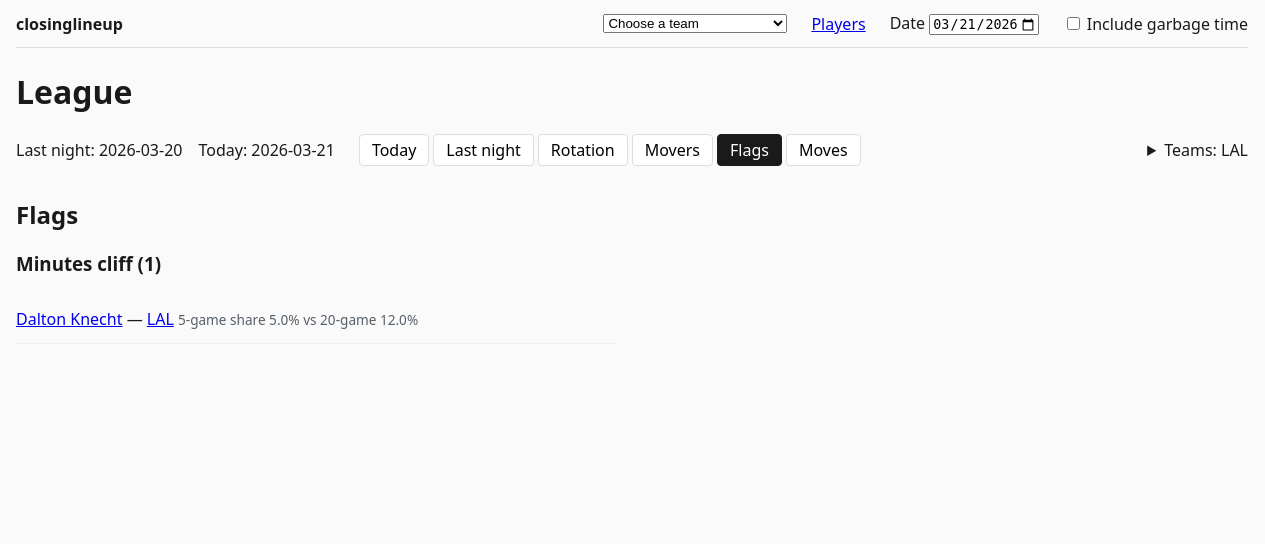
LeaguePage › team filter › shows only the selected teams' rows on every derived tab
Expected: the number of list items is 1, left=16, top=295, right=616, bottom=344
Expected: the element "Flags" shows "Dalton Knecht — LAL", left=16, top=178, right=616, bottom=344
Click the tab "Rotation".
click(583, 150)  # box left=538, top=134, right=628, bottom=166
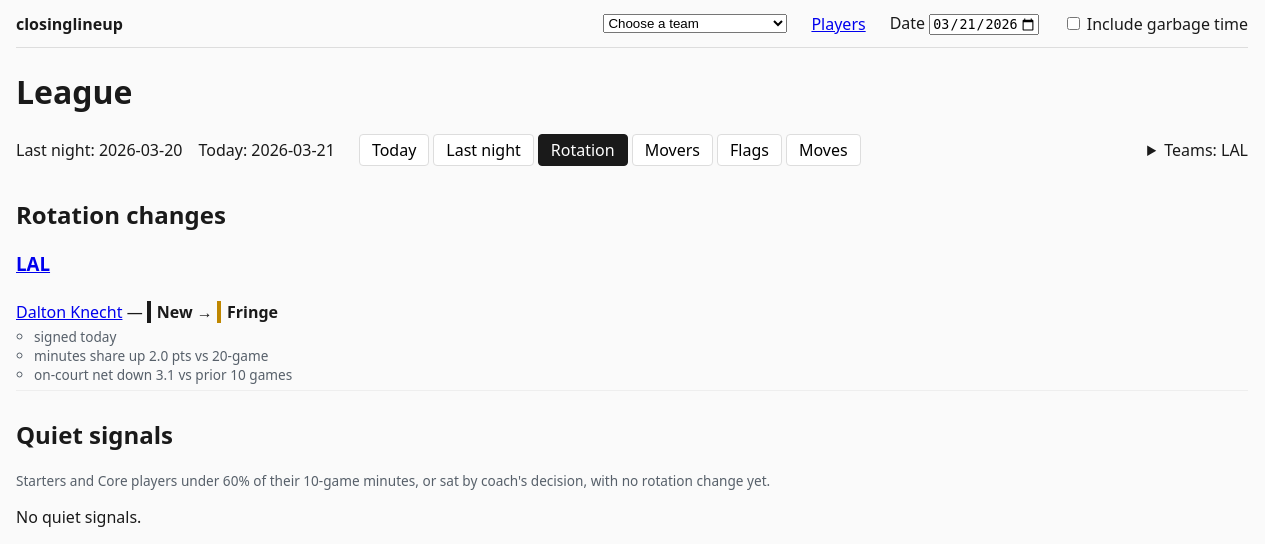
Expected: the element "BOS" is not shown
Now the element "LAL" is shown, box left=16, top=251, right=1248, bottom=391
Click the tab "Movers".
click(672, 150)  # box left=632, top=134, right=713, bottom=166
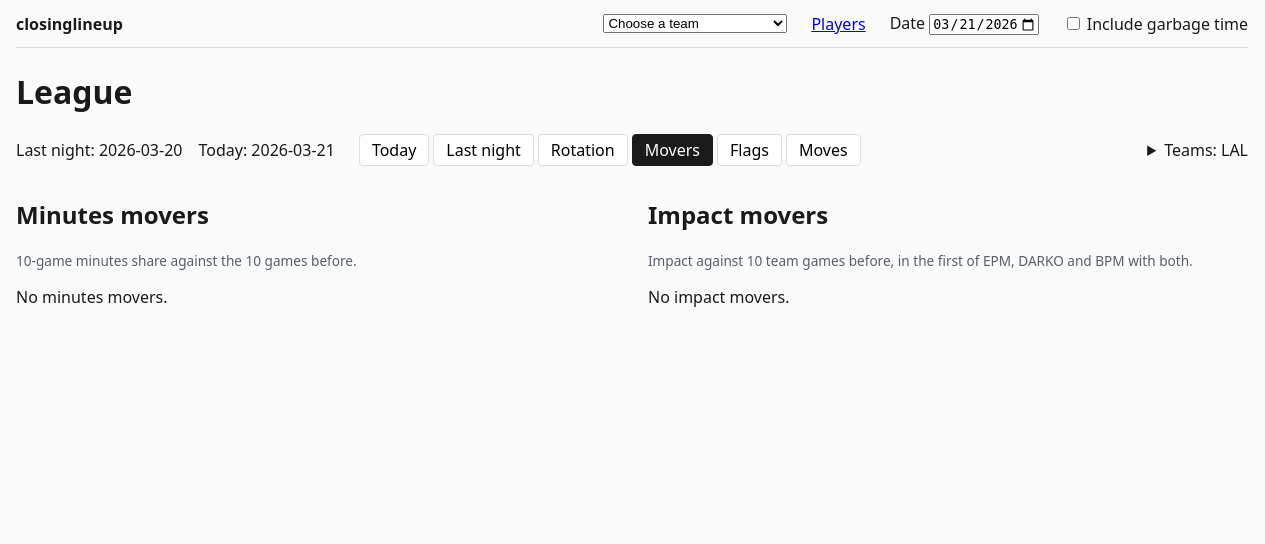
Now the element "Minutes movers" shows "No minutes movers.", box left=16, top=286, right=168, bottom=308
Click the tab "Moves".
click(823, 150)  # box left=786, top=134, right=861, bottom=166
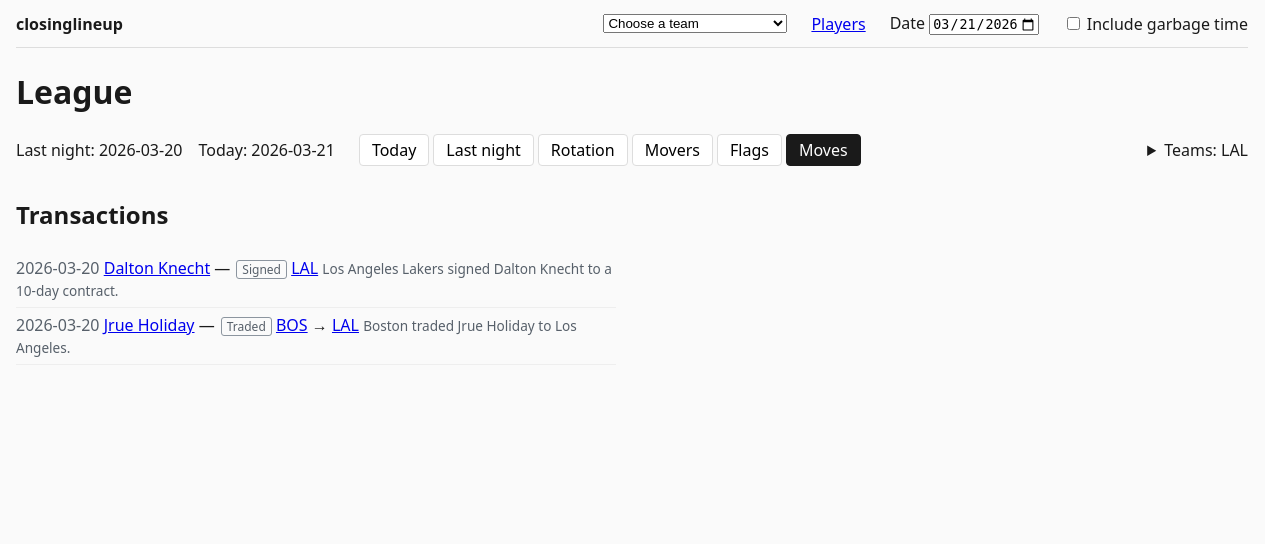
Now the number of list items is 2, box left=16, top=251, right=616, bottom=308; left=16, top=308, right=616, bottom=365
Click the tab "Last night".
click(484, 150)  # box left=433, top=134, right=534, bottom=166
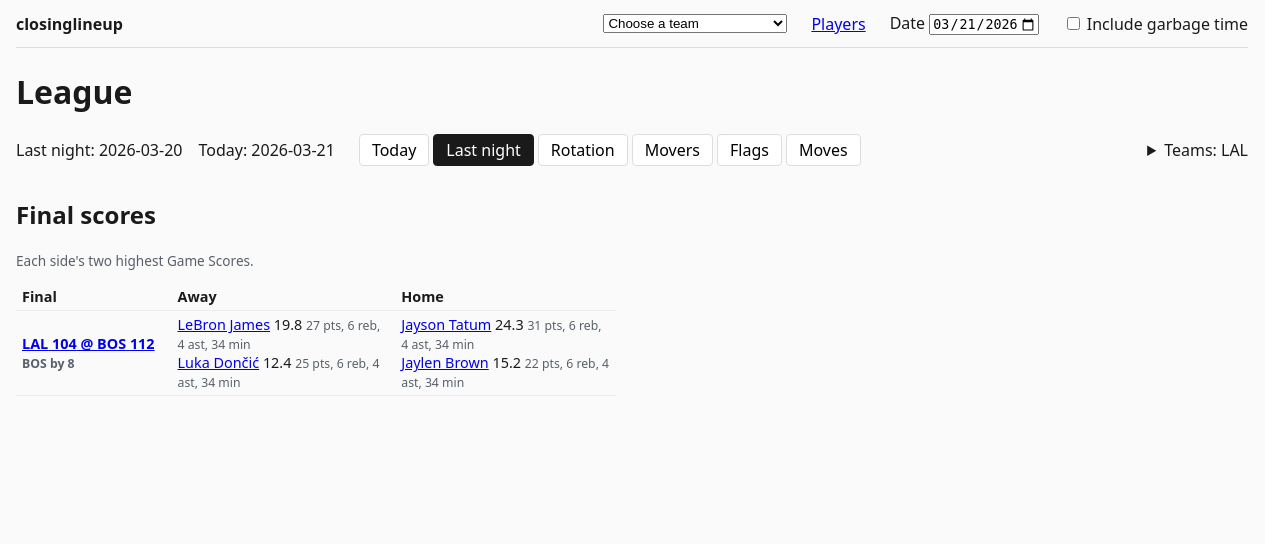
Now the number of rows is 2, box left=16, top=284, right=616, bottom=311; left=16, top=311, right=616, bottom=396
Now the link "LAL 104 @ BOS 112" is shown, box left=22, top=334, right=155, bottom=354
